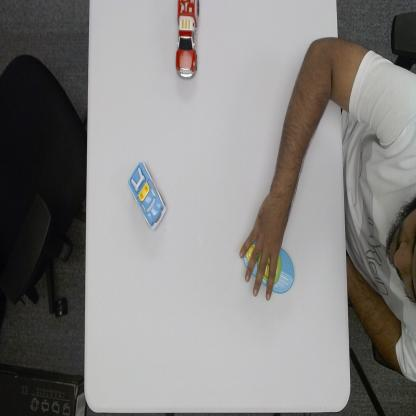Arm: (270, 27, 340, 213)
Boat: (244, 240, 295, 294)
Car: (127, 160, 168, 233)
Firetruck: (175, 0, 201, 82)
Hand: (240, 197, 287, 301)
